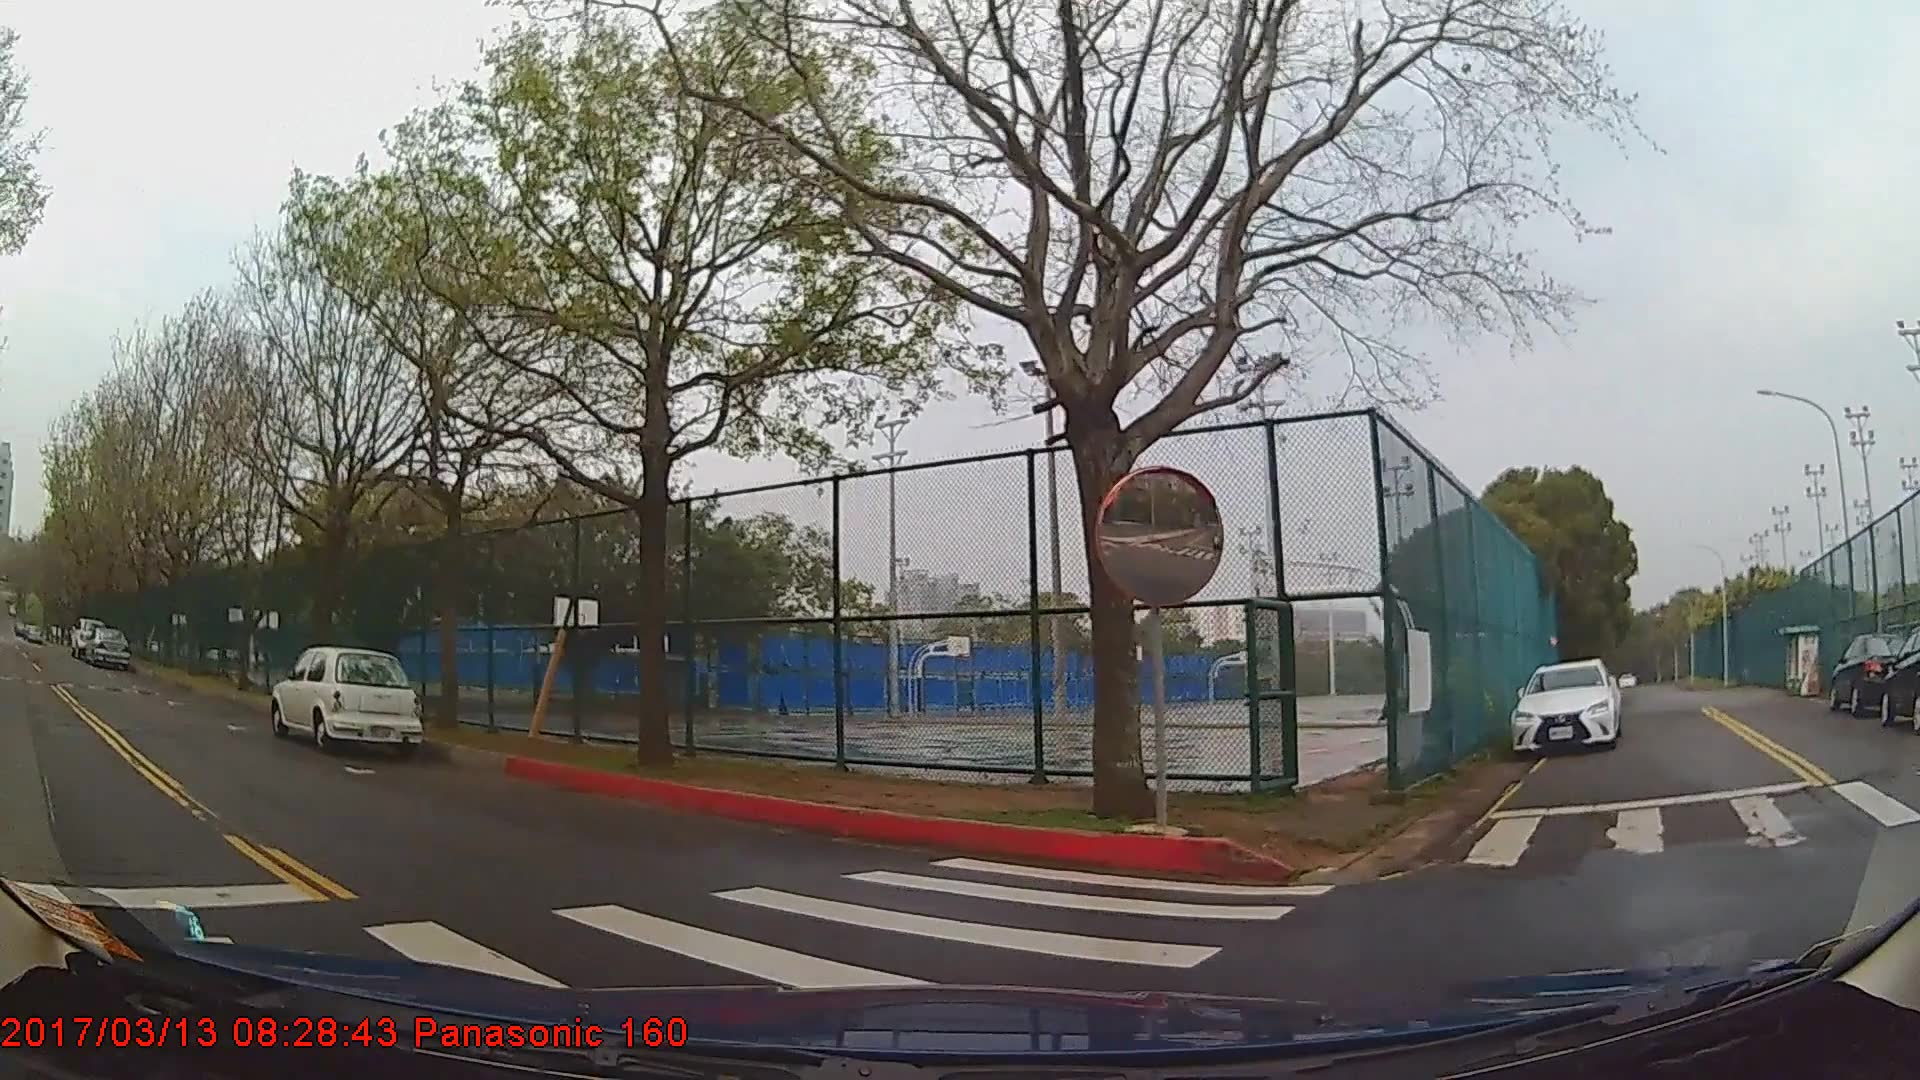vehicle: (270, 642, 425, 745), (1510, 657, 1623, 753), (1828, 629, 1912, 713), (80, 622, 131, 667)
